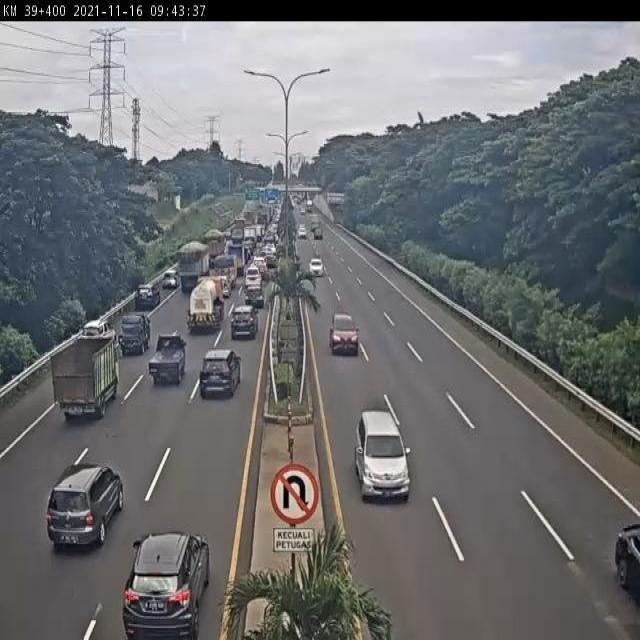car: (119, 517, 218, 640), (44, 463, 126, 553), (353, 409, 412, 502), (606, 489, 640, 622), (112, 302, 157, 362), (322, 300, 364, 361), (200, 348, 246, 403), (148, 333, 188, 387), (78, 300, 116, 351), (128, 268, 164, 317), (227, 298, 263, 346), (238, 259, 268, 296), (242, 279, 268, 316), (305, 253, 331, 287), (160, 259, 182, 293)
small truck: (207, 251, 241, 293)
truck-l-: (170, 232, 217, 295)
truck-m-: (50, 329, 121, 427), (180, 267, 234, 336)
